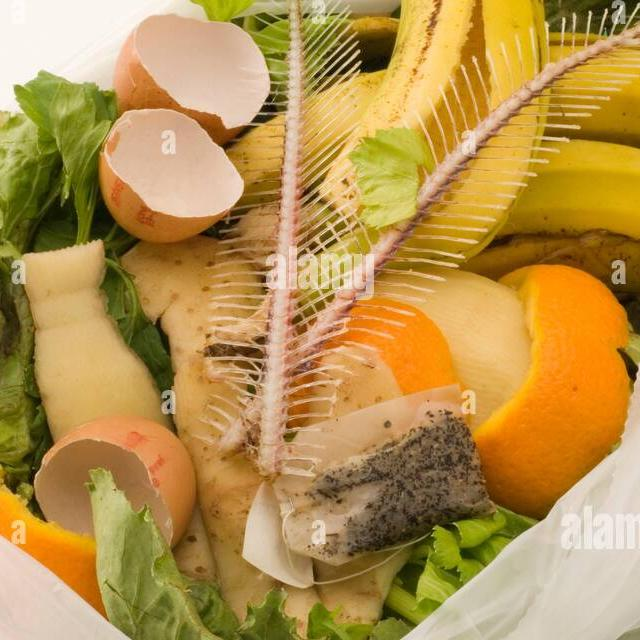food_waste: (160, 0, 640, 566), (426, 212, 640, 518), (228, 0, 363, 471), (260, 20, 640, 145), (74, 436, 248, 640), (304, 384, 504, 539), (0, 388, 187, 548), (20, 250, 189, 427), (532, 26, 640, 265), (102, 106, 237, 241), (0, 124, 80, 300)
